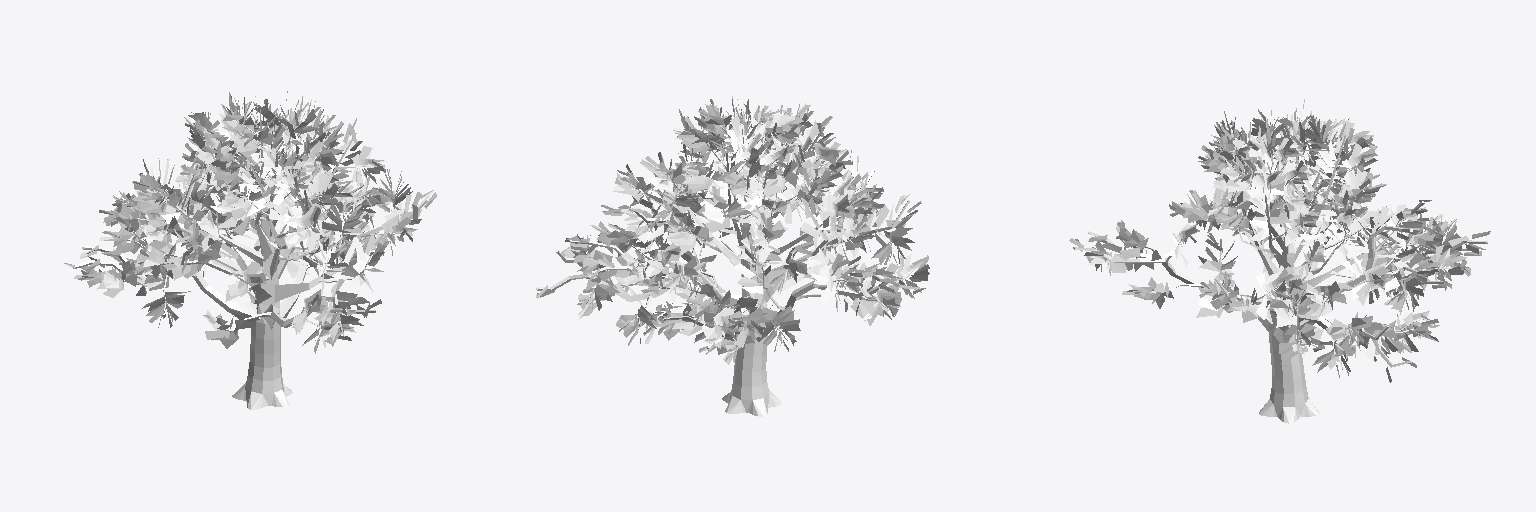
File: Tree2.obj
3 renders of one model, left to right at view 1: azimuth 30°, elevation 25°; view 2: azimuth 150°, elevation 25°; view 3: azimuth 270°, elevation 25°, orthographic.
Visible parts, largest first — view 1: tree; view 2: tree; view 3: tree.
Boxes of the visible parts, x1=… form: tree: x1=64, y1=91, x2=436, y2=409; tree: x1=536, y1=96, x2=929, y2=416; tree: x1=1069, y1=99, x2=1490, y2=423.
Size of the model in its own units: 2451 by 1976 by 2555.